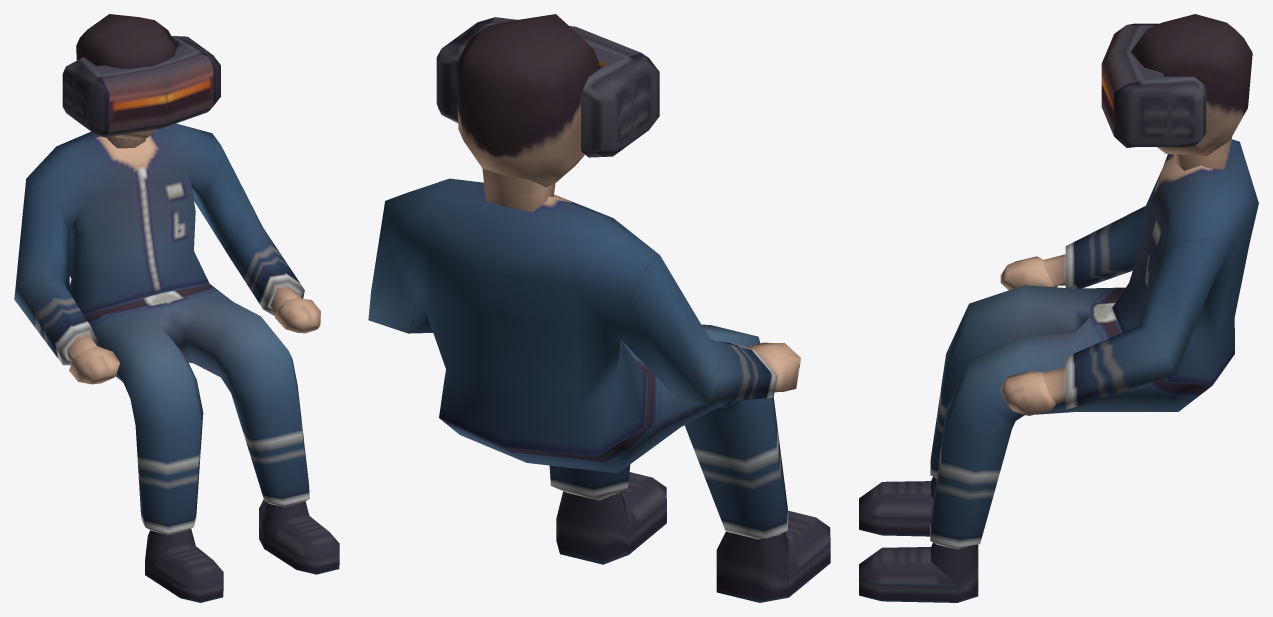
Rendered from Character.fbx.
3 views of the same model, side by side, from view 1: azimuth 30°, elevation 25°; view 2: azimuth 150°, elevation 25°; view 3: azimuth 270°, elevation 25° (orthographic). The views are drawn at different scales.
Parts seen in each view (by area): view 1: polySurface297; view 2: polySurface297; view 3: polySurface297.
Boxes of the visible parts, <box> form: polySurface297: <box>14,14,339,602</box>; polySurface297: <box>368,14,830,602</box>; polySurface297: <box>859,14,1258,602</box>.
Size of the model in its own units: 157 by 280 by 190.
Materials: 1 (1 with a texture image).
